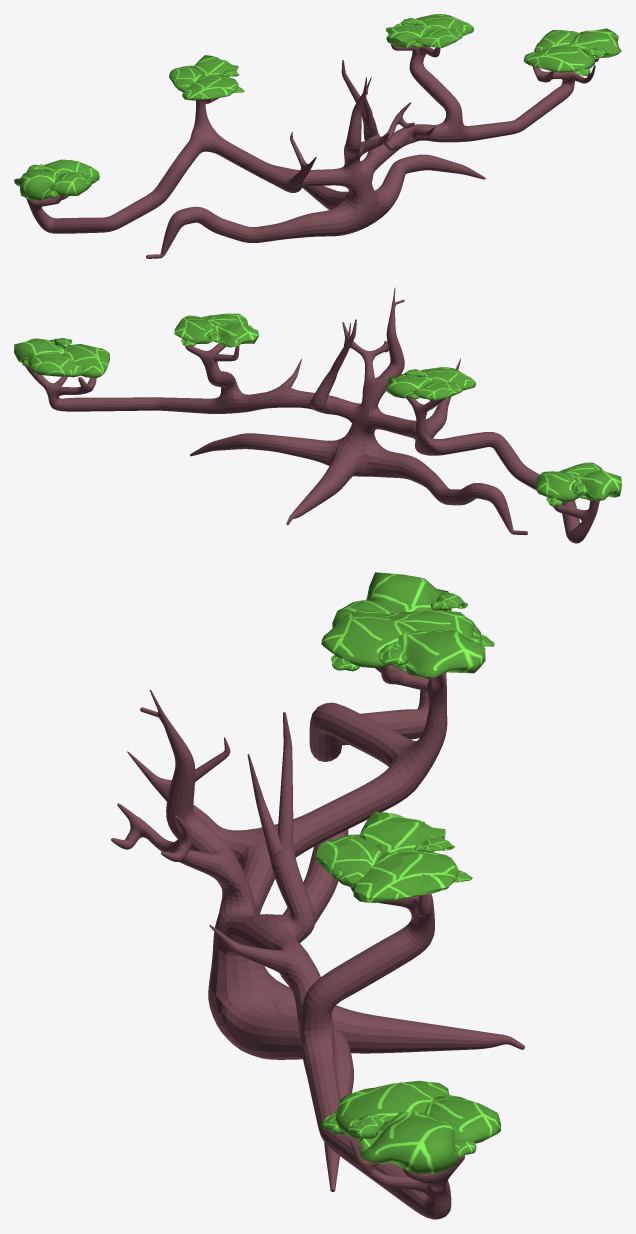
File: Arbol2.fbx
3 views of the same model, one above another, from view 1: azimuth 30°, elevation 25°; view 2: azimuth 150°, elevation 25°; view 3: azimuth 270°, elevation 25° (orthographic). The views are drawn at different scales.
Parts seen in each view (by area): view 1: HojasPlat.006; view 2: HojasPlat.006; view 3: HojasPlat.006.
Part boxes in pixels (<box>): HojasPlat.006: <box>14,14,621,258</box>; HojasPlat.006: <box>14,287,621,543</box>; HojasPlat.006: <box>111,572,524,1219</box>.
Size of the model in its own units: 592 by 1982 by 549.
